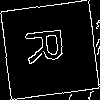R: (24, 24, 74, 66)
